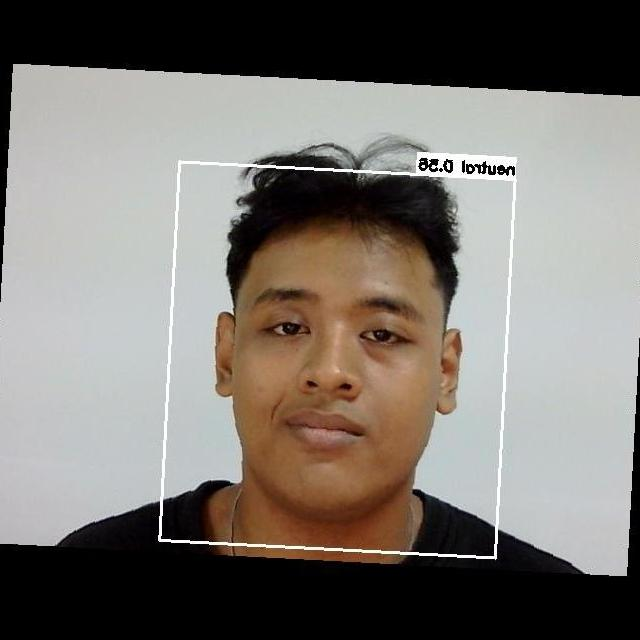Happy: (237, 258, 435, 495)
